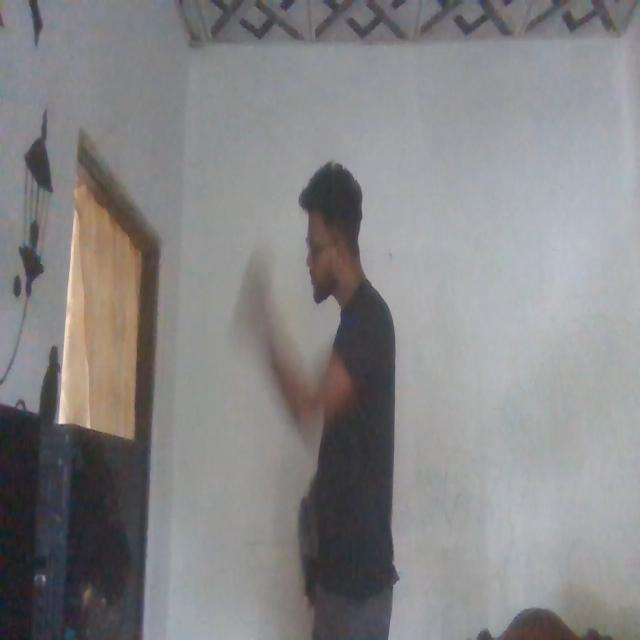Person: (248, 154, 406, 640)
